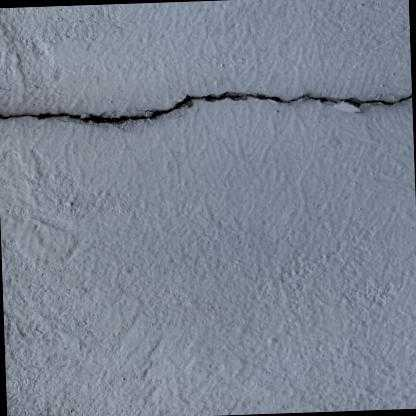crack: (0, 94, 412, 123)
